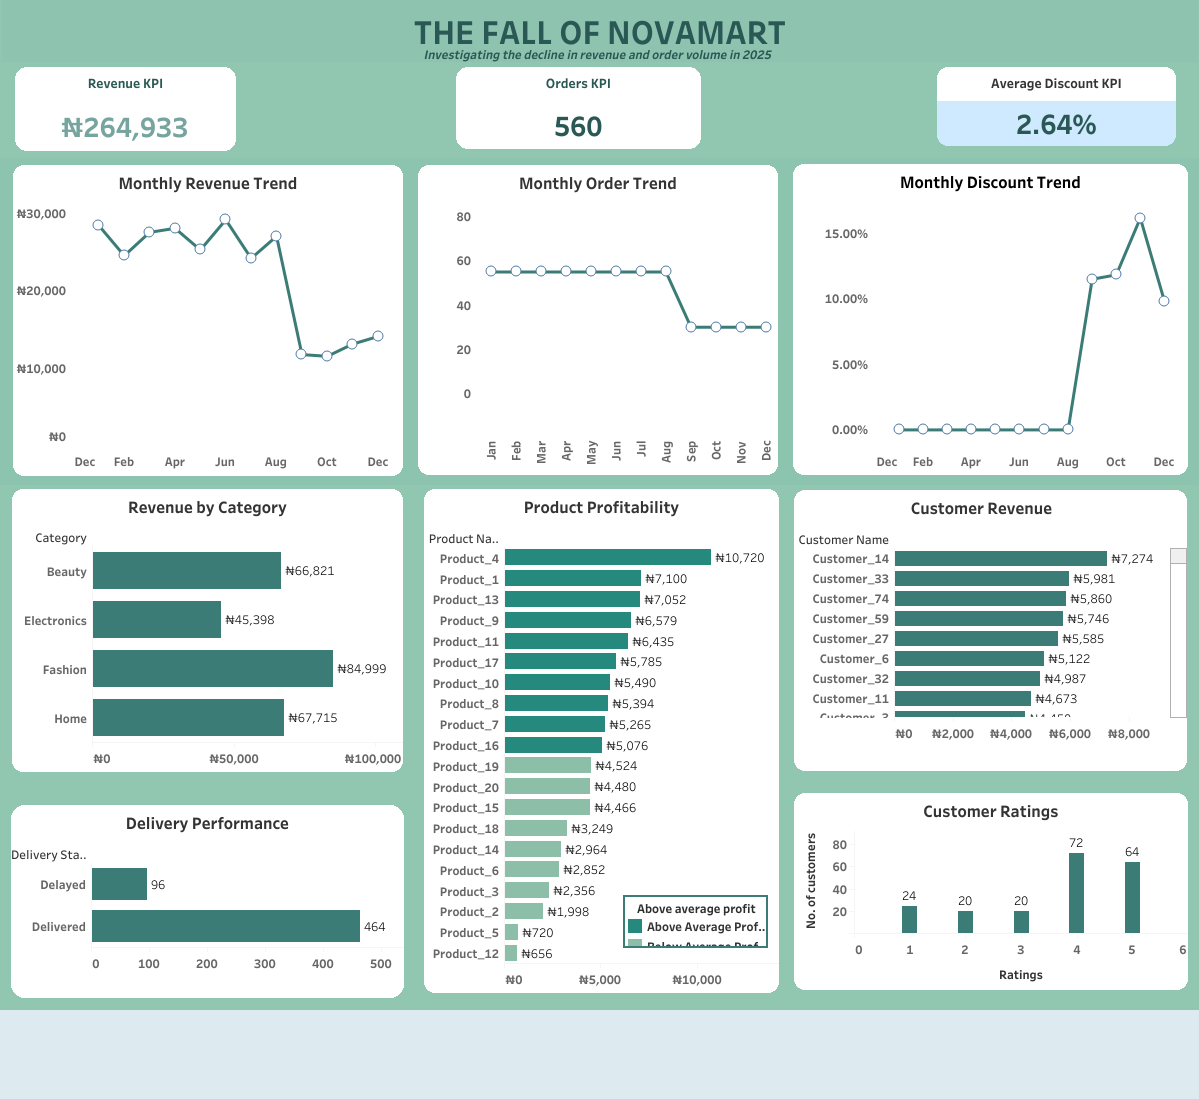

Layout of this report page (visuals, bound fields, positions):
{"tool":"tableau","page":{"name":"NOVARMART DASHBOARD","canvas":[1200,1100],"ordinal":0},"visuals":[{"type":"text","box":[2,0,1196,61.8]},{"type":"text","box":[421,45.8,355,15.6]},{"type":"worksheet","title":"Revenue KPI","mark":"Text","box":[15,66.8,221,83.8]},{"type":"worksheet","title":"Orders KPI","mark":"Text","box":[456,66.8,245,82.1]},{"type":"worksheet","title":"Average Discount KPI","mark":"Automatic","box":[937,66.8,239,79.5]},{"type":"worksheet","title":"Monthly Discount Trend","mark":"Line","rows":["discount","discount"],"cols":["order_date"],"box":[793,164.2,395,310.5]},{"type":"worksheet","title":"Monthly Revenue Trend","mark":"Line","rows":["sales_amount","sales_amount"],"cols":["order_date"],"box":[13,165,390,311.4]},{"type":"worksheet","title":"Monthly Order Trend","mark":"Line","rows":["order_id","order_id"],"cols":["order_date"],"box":[418,165,360,309.7]},{"type":"worksheet","title":"Revenue by Category","mark":"Bar","rows":["category"],"cols":["sales_amount"],"box":[12,489.1,391,282.6]},{"type":"worksheet","title":"Product Profitability","mark":"Bar","rows":["product_name"],"cols":["Calculation_0820819520212992"],"box":[424,489.1,355,503.5]},{"type":"worksheet","title":"Customer Revenue","mark":"Bar","rows":["customer_name"],"cols":["sales_amount"],"box":[794,489.5,393,281.4]},{"type":"worksheet","title":"Customer Ratings","mark":"Bar","rows":["feedback_id"],"cols":["rating"],"box":[794,792.8,394,197.2]},{"type":"worksheet","title":"Delivery Performance","mark":"Bar","rows":["delivery_status"],"cols":["delivery_id"],"box":[11,804.7,393,192.9]},{"type":"legend","title":"Product Profitability","param":"[federated.10h0p9a1mdgtn11d2re9c12poptb].[usr:Calculation_1015434948907008:nk]","box":[623,895.2,145,52.5]}]}

Visuals, with their boxes in screenshot pixels (x1, y1, x2, y2), scaled from the page's 1200x1100 canvas onto the 1199x1099 screenshot:
text: (2,0,1197,62)
text: (421,46,775,61)
"Revenue KPI" worksheet (Text marks): (15,67,236,150)
"Orders KPI" worksheet (Text marks): (456,67,700,149)
"Average Discount KPI" worksheet: (936,67,1175,146)
"Monthly Discount Trend" worksheet (Line marks): (792,164,1187,474)
"Monthly Revenue Trend" worksheet (Line marks): (13,165,403,476)
"Monthly Order Trend" worksheet (Line marks): (418,165,777,474)
"Revenue by Category" worksheet (Bar marks): (12,489,403,771)
"Product Profitability" worksheet (Bar marks): (424,489,778,992)
"Customer Revenue" worksheet (Bar marks): (793,489,1186,770)
"Customer Ratings" worksheet (Bar marks): (793,792,1187,989)
"Delivery Performance" worksheet (Bar marks): (11,804,404,997)
"Product Profitability" legend: (622,894,767,947)
